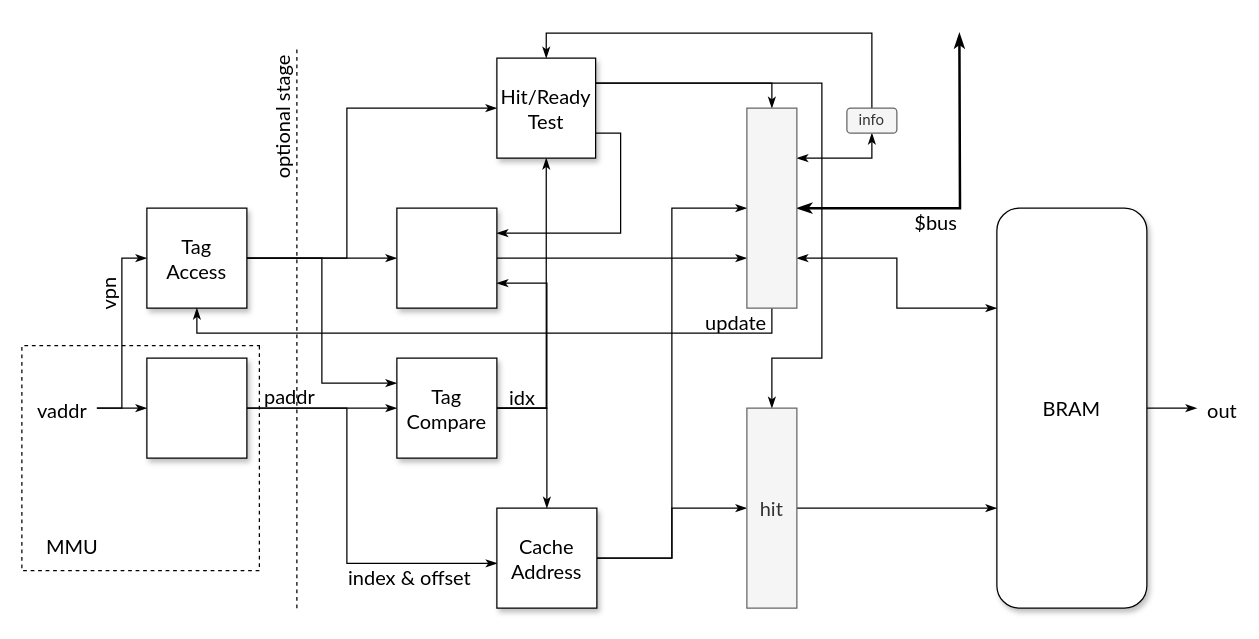
The diagram is 1259 pixels wide and 639 high, and some of its shapes have lost their labels. The shapes that lost their labels are listed below. From the top down, each one's centre as x and y in pixels, then its label:
the point at 771,207: miss
the point at 447,259: Replacement Decision
the point at 197,409: TLB
